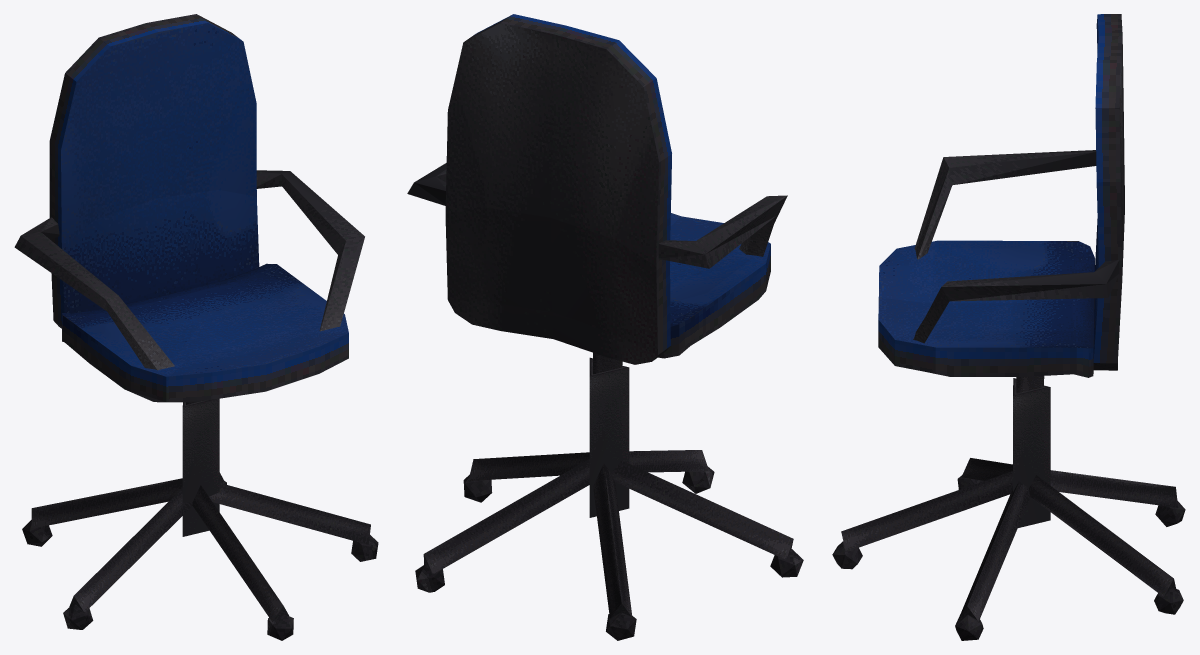
The model's file is office_chair_psx.glb.
3 views of the same model, side by side, from view 1: azimuth 30°, elevation 25°; view 2: azimuth 150°, elevation 25°; view 3: azimuth 270°, elevation 25° (orthographic). The views are drawn at different scales.
Parts seen in each view (by area): view 1: Chair_psx; view 2: Chair_psx; view 3: Chair_psx.
Boxes of the visible parts, left/top/right/bottom form: Chair_psx: left=14, top=14, right=378, bottom=640; Chair_psx: left=407, top=14, right=803, bottom=640; Chair_psx: left=832, top=14, right=1185, bottom=640.
Size of the model in its own units: 0.7696 by 1.23 by 0.7392.
1 material, 1 textured.
